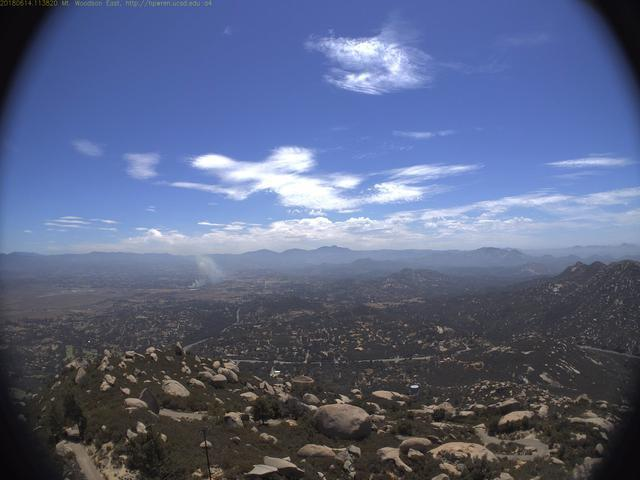smoke: (184, 243, 235, 292)
